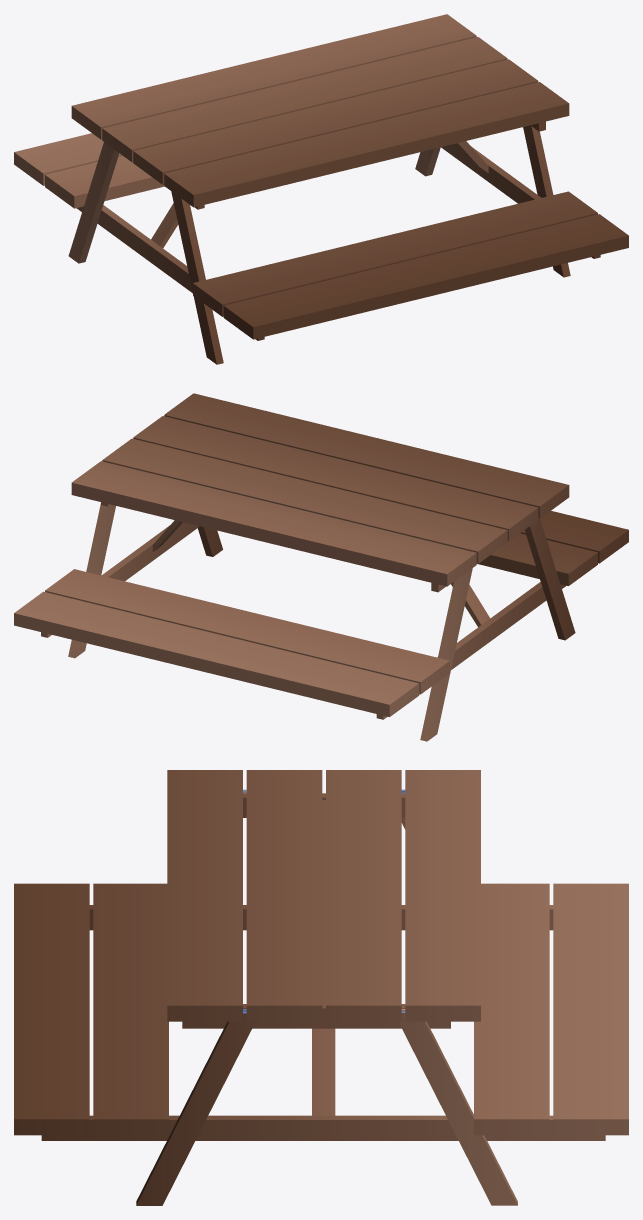
File: Meja Santai.fbx
3 renders of one model, top to bottom at view 1: azimuth 30°, elevation 25°; view 2: azimuth 150°, elevation 25°; view 3: azimuth 270°, elevation 25°, orthographic. The views are drawn at different scales.
Parts seen in each view (by area): view 1: Cube.060; view 2: Cube.060; view 3: Cube.060.
Part boxes in pixels (x1,y1,x2,y2): Cube.060: (14,14,628,364); Cube.060: (14,393,628,741); Cube.060: (14,770,628,1205).
Size of the model in its own units: 800 by 328 by 883.
